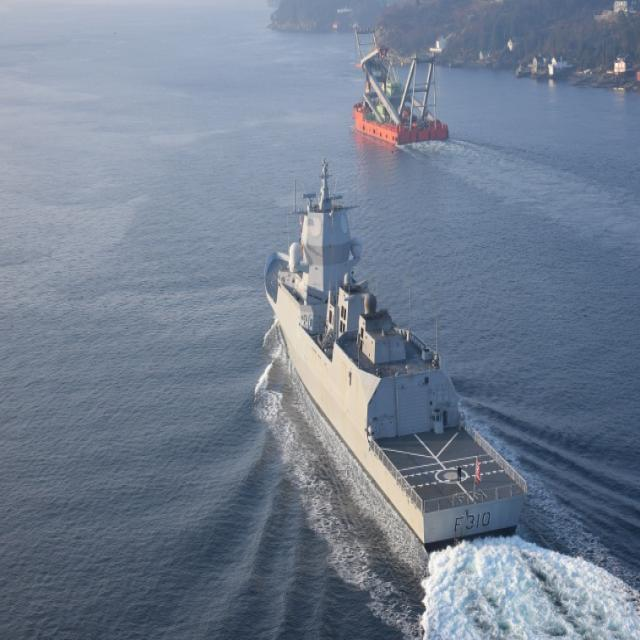Fragata: (263, 142, 533, 550)
